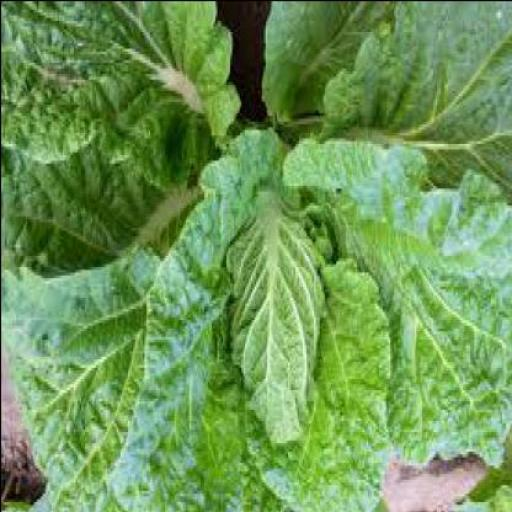biodegradable: (1, 1, 512, 511), (220, 193, 322, 448)
